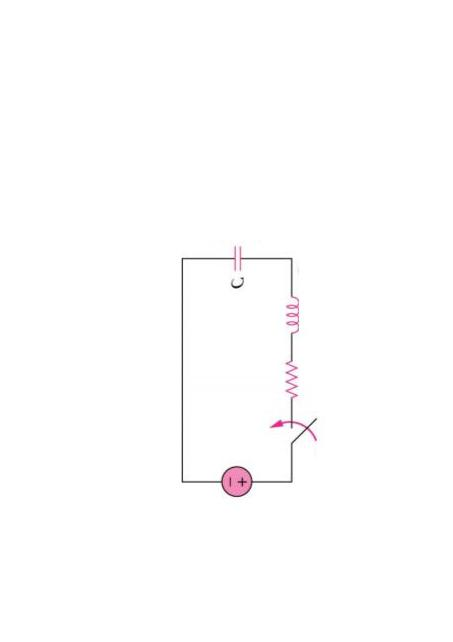resistor: (269, 349, 307, 410)
